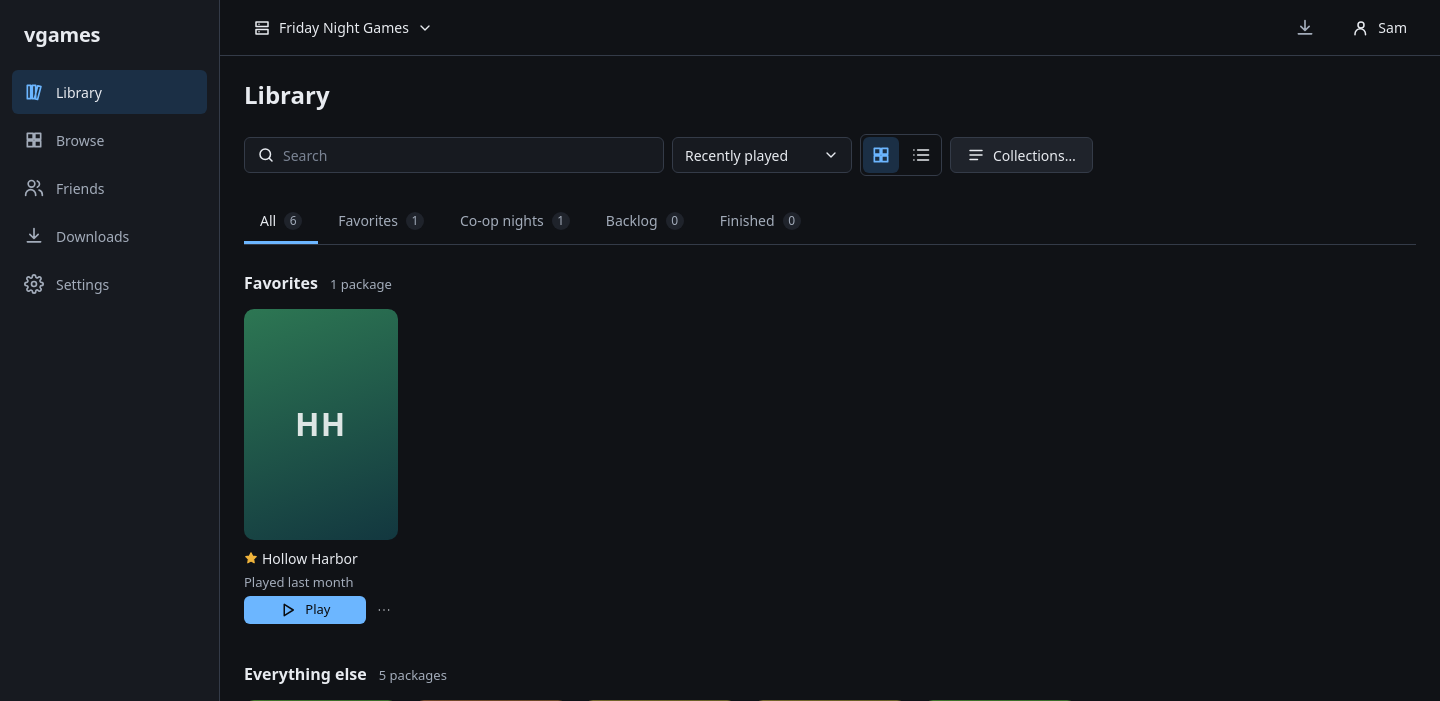
library › manages collections: rename, reorder and delete
Expected: the element "Hollow Harbor" is shown, [244,309,398,624]
Click the button "Collections…": (1021, 155) [950,137,1093,173]
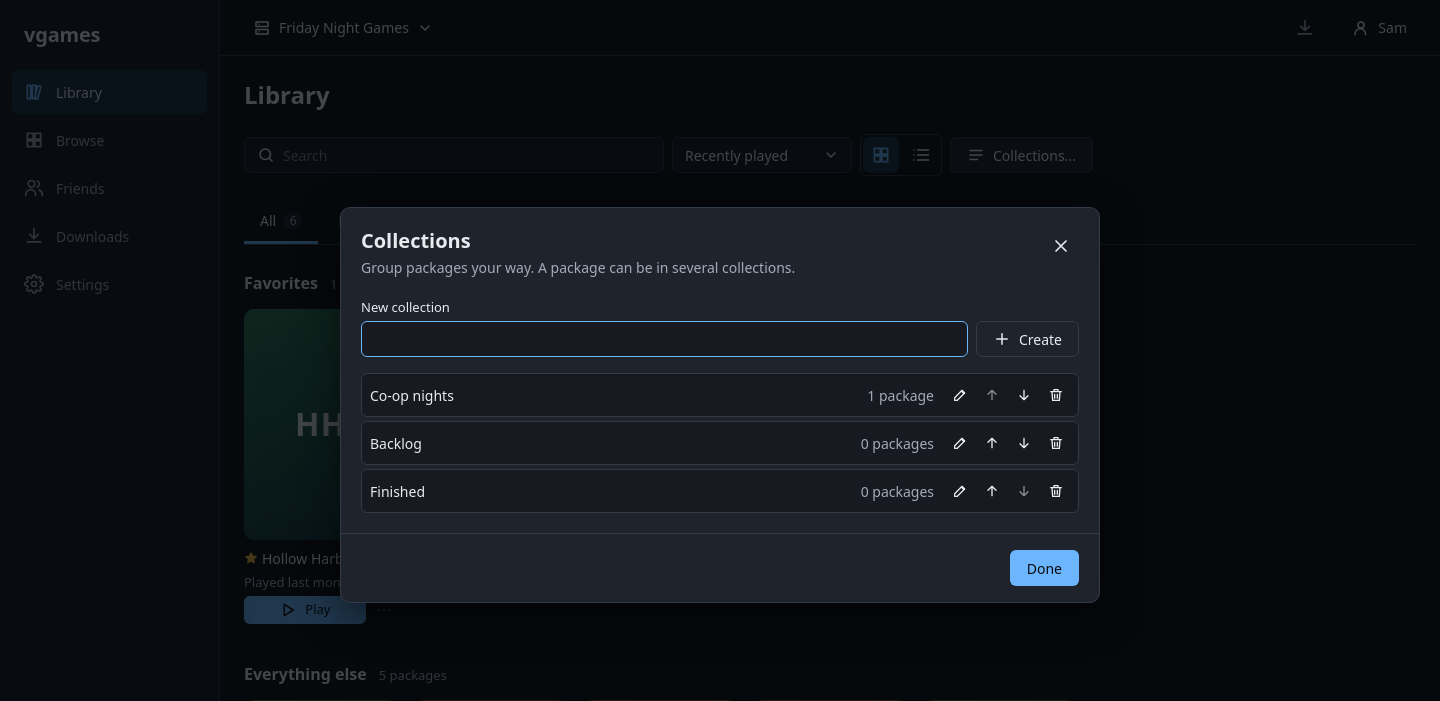
Click the button named "Rename Backlog": (960, 443) [946,429,974,457]
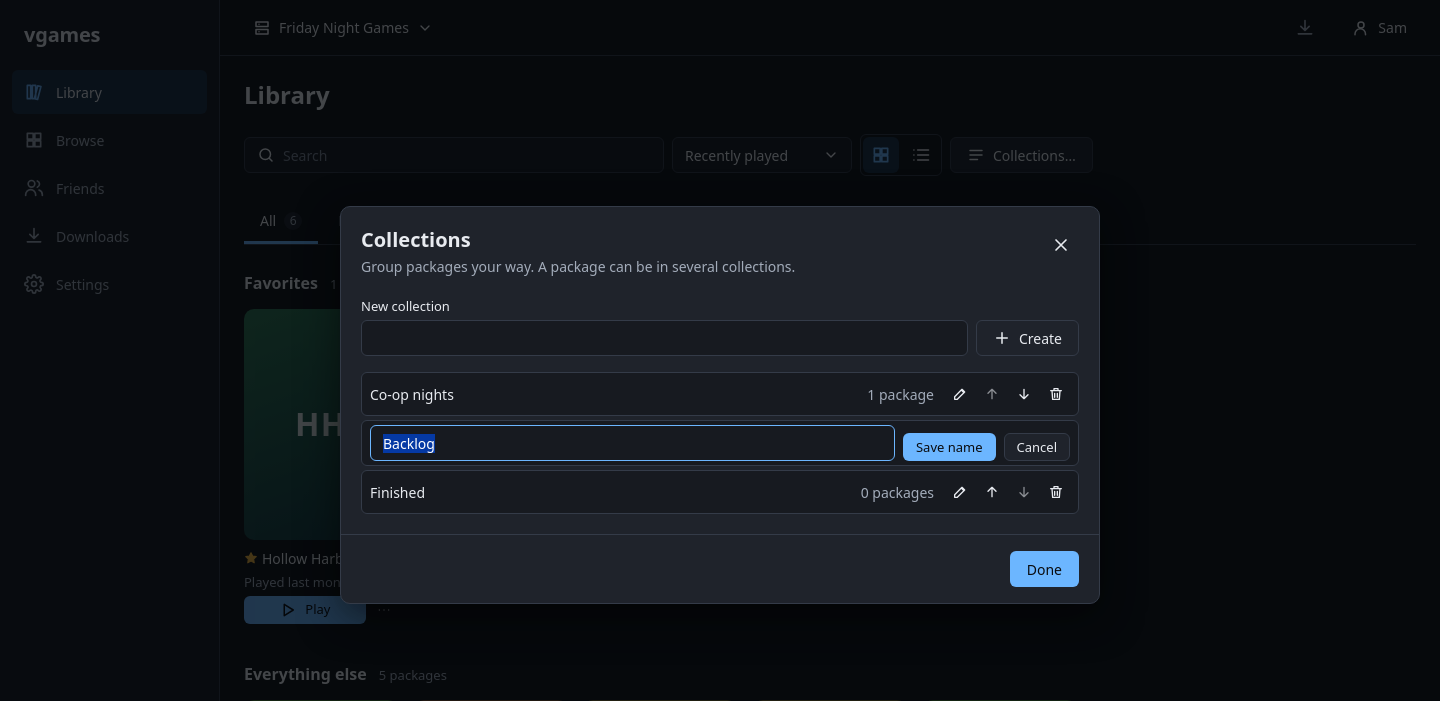
Replace the text in the field named "New name for Backlog" with "Later": (632, 443) [383,426,882,460]
Then press Enter
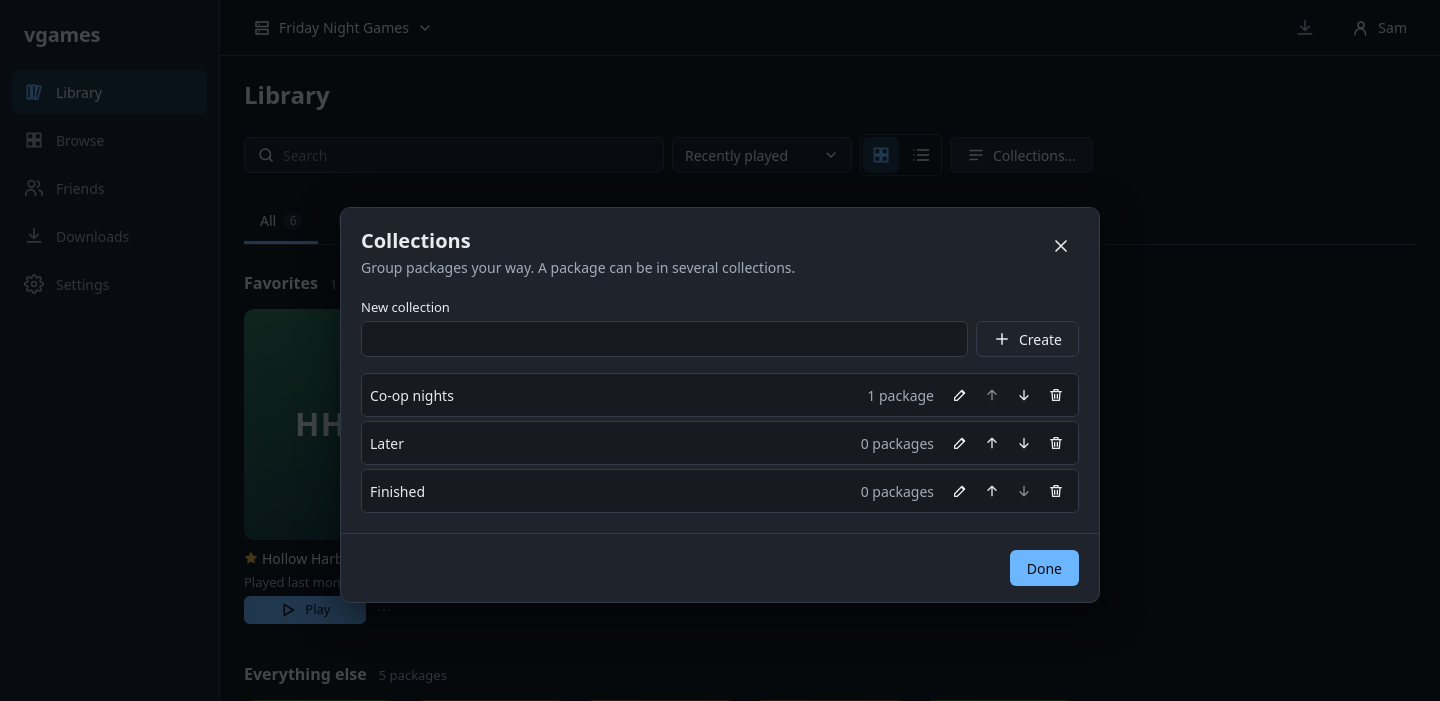
Expected: the text "Later" is shown, [370,434,404,453]
Click the button named "Move Finished up": (992, 491) [978,477,1006,505]
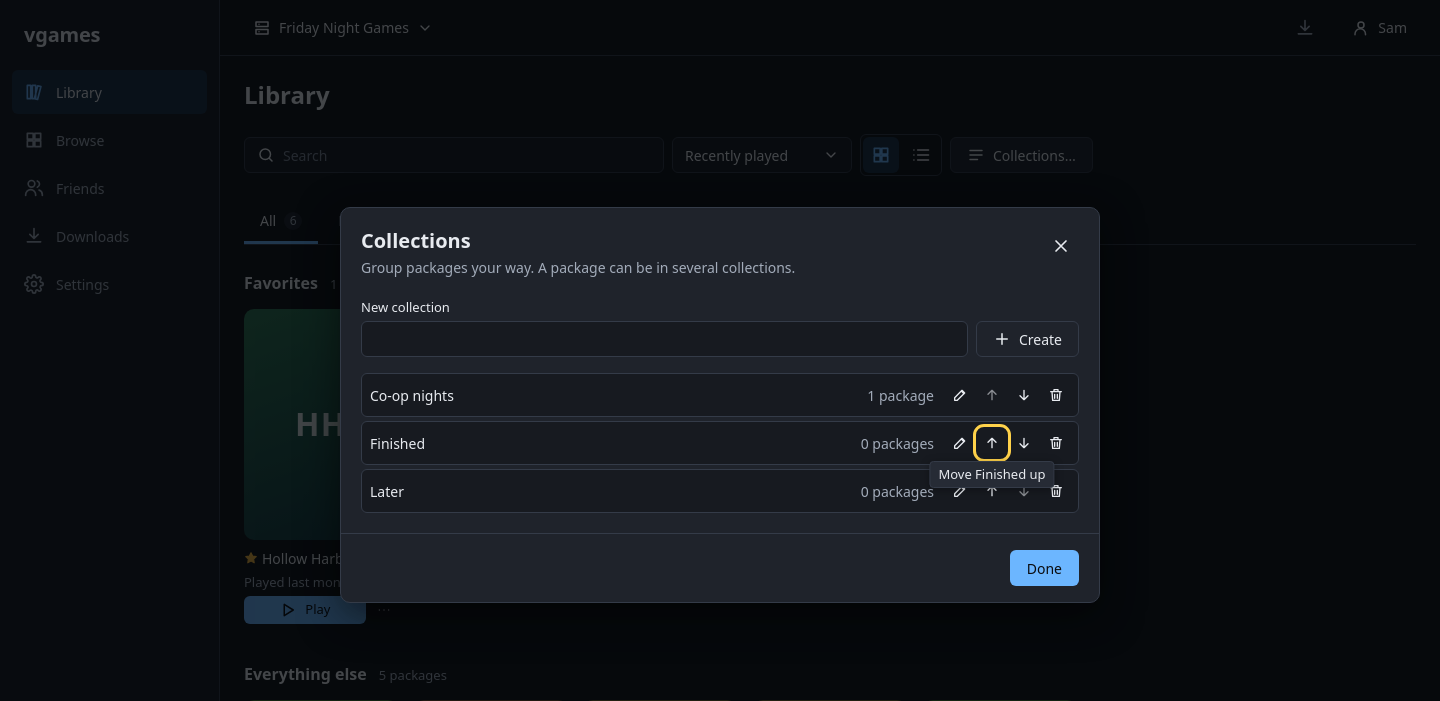
Click the button named "Delete Co-op nights": (1056, 395) [1042,381,1070,409]
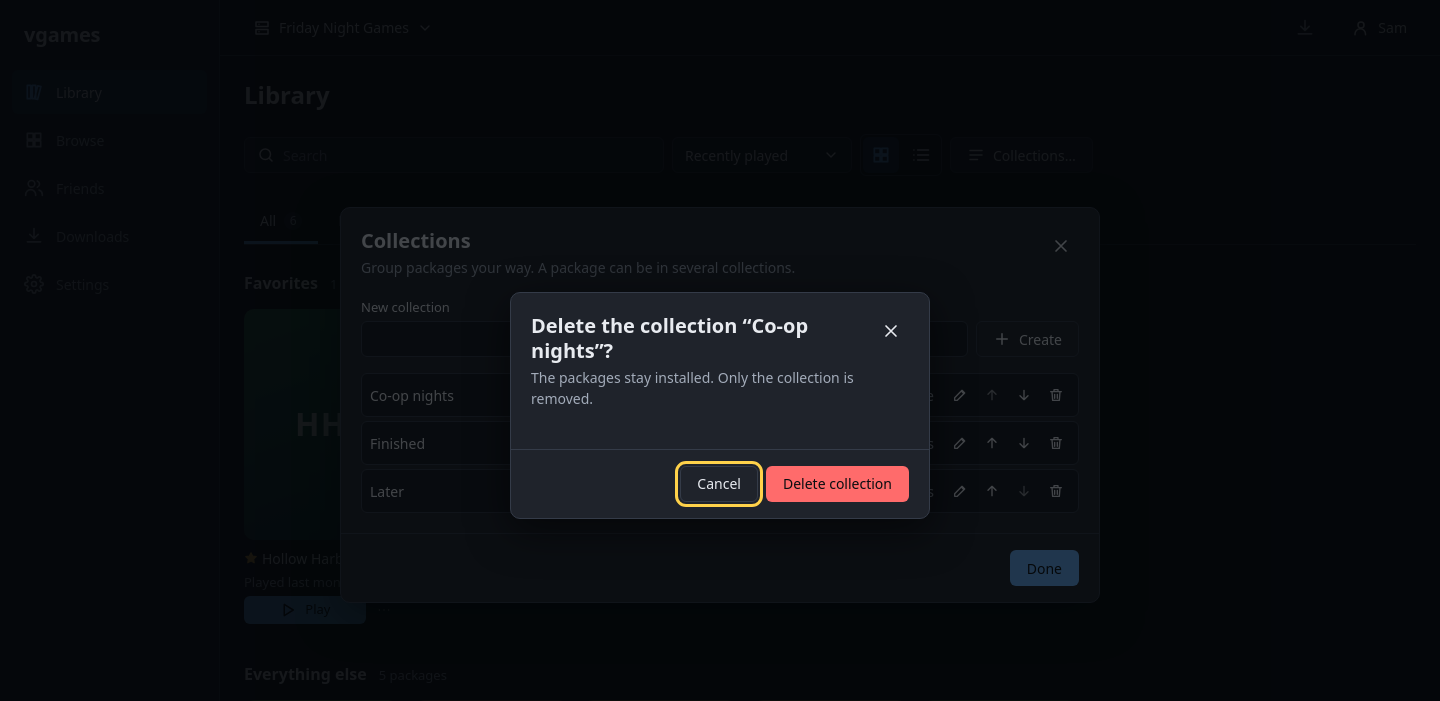
Click the button "Delete collection": (838, 484) [766,466,909,502]
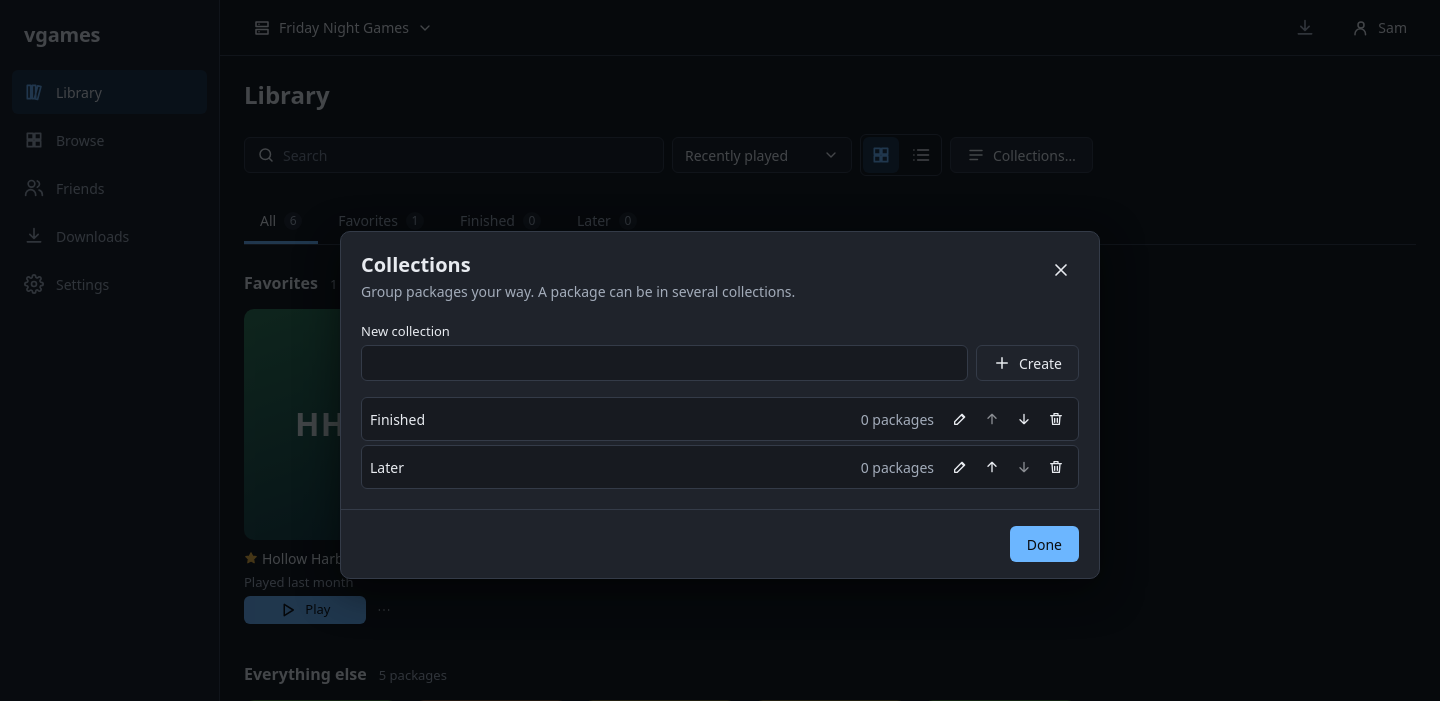
Expected: the tab "Co-op nights" is gone
